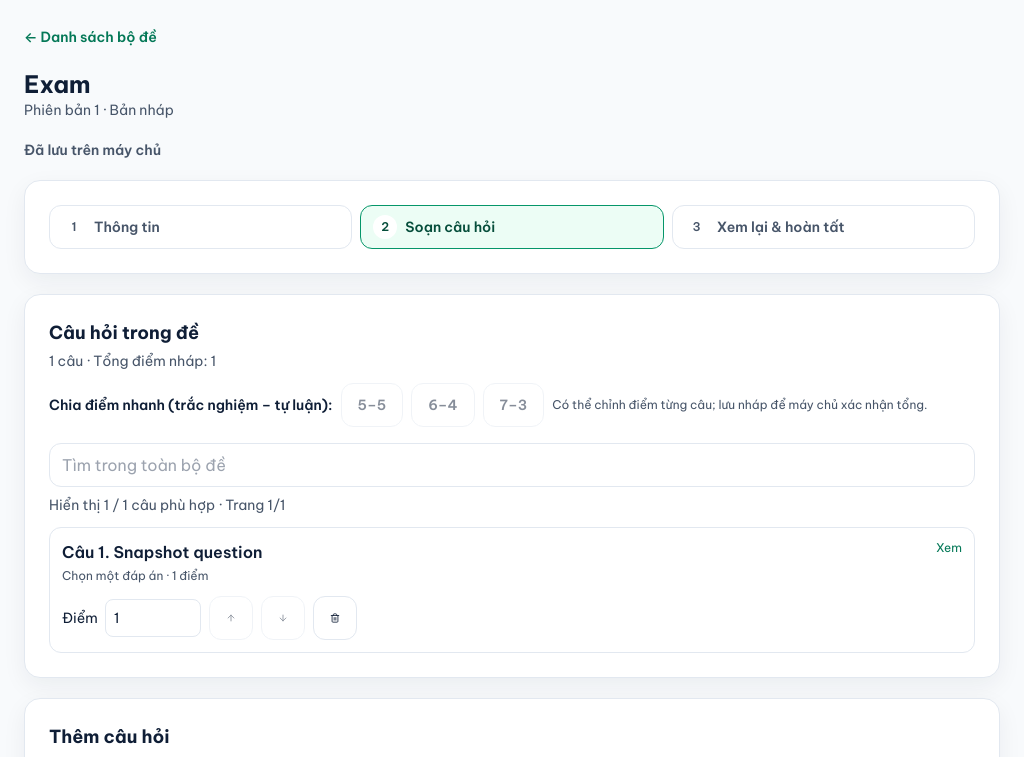
Test: assessment draft UI › renders single_choice without exposing internal option or statement IDs
Click the button "Câu 1. Snapshot question Xem" at [80, 552], box [62,540,962,564]
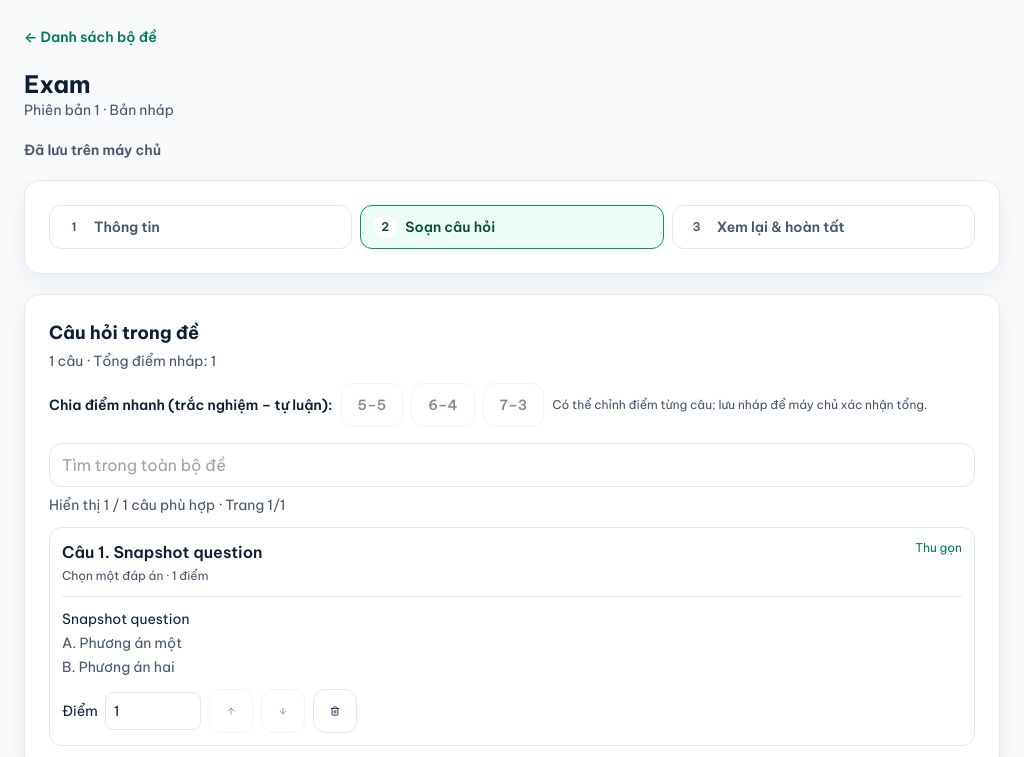
Check: the text "A. Phương án một" is shown, box [62,634,182,652]
